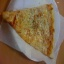pizza: (1, 4, 58, 59)
